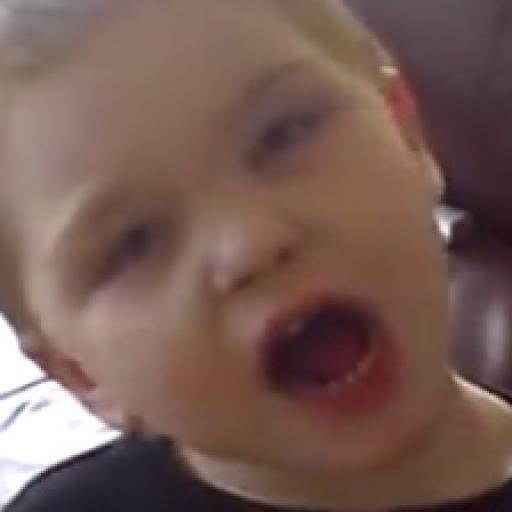Autism: (41, 0, 454, 479)
